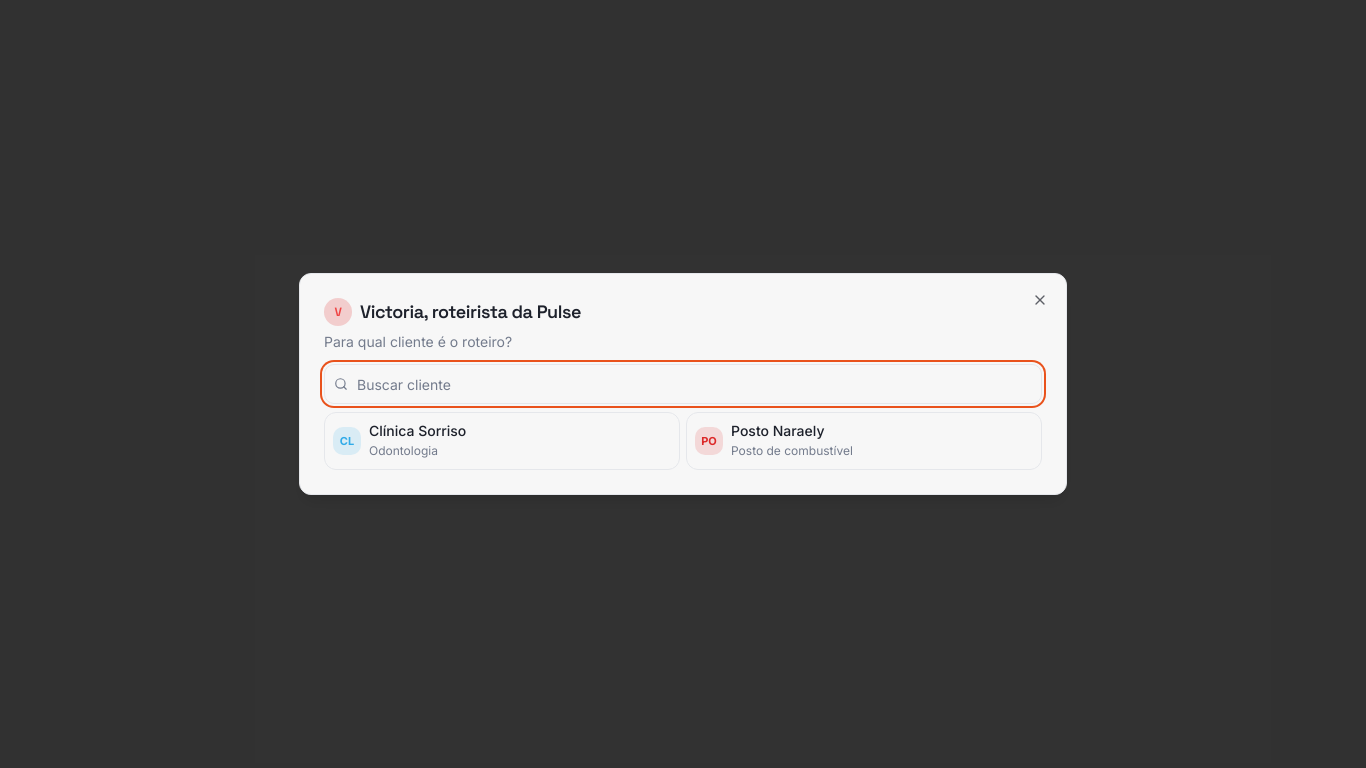
Test: Victoria: tela no Copy › abre com sugestões prontas e um toque já pede o roteiro
Click the button "CL Clínica Sorriso Odontologia": (418, 430) x1=324 y1=412 x2=680 y2=470
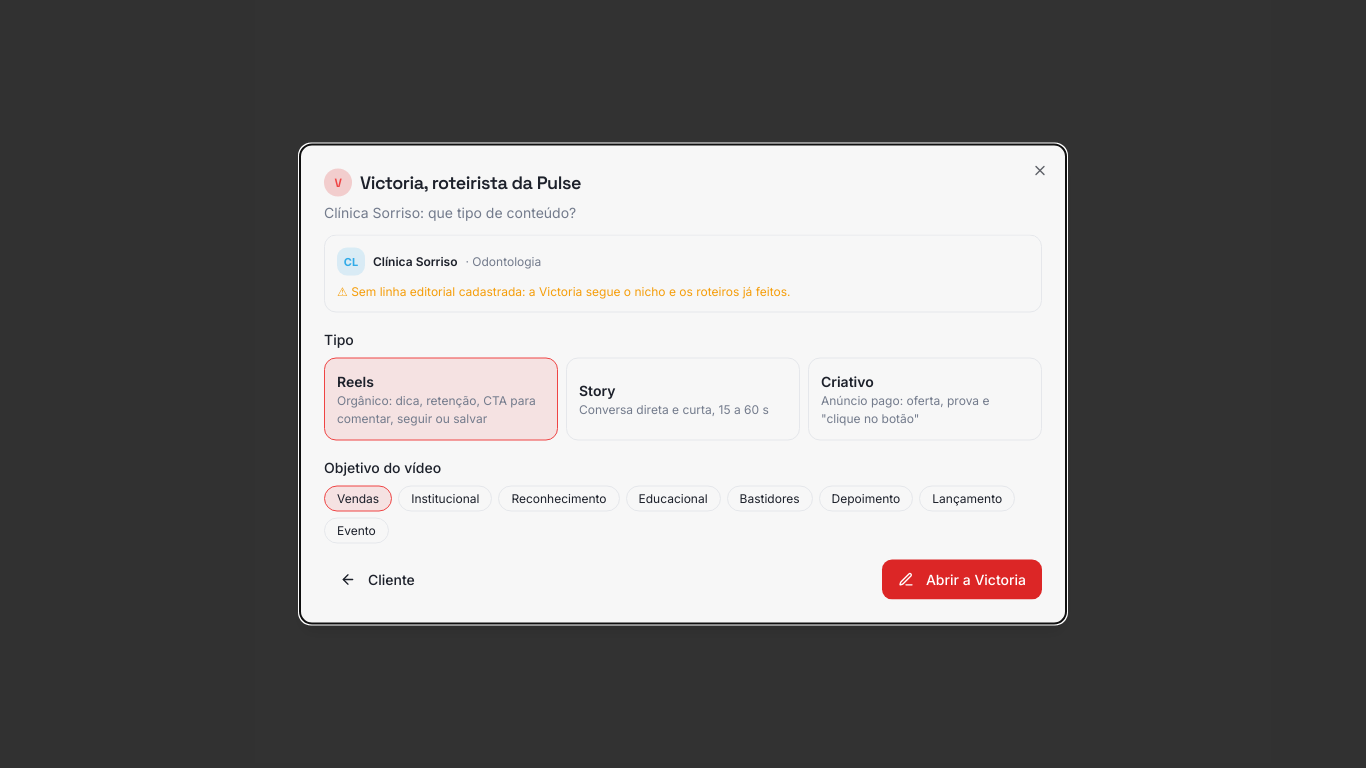
Click the button "Abrir a Victoria": (962, 580) x1=882 y1=560 x2=1042 y2=600
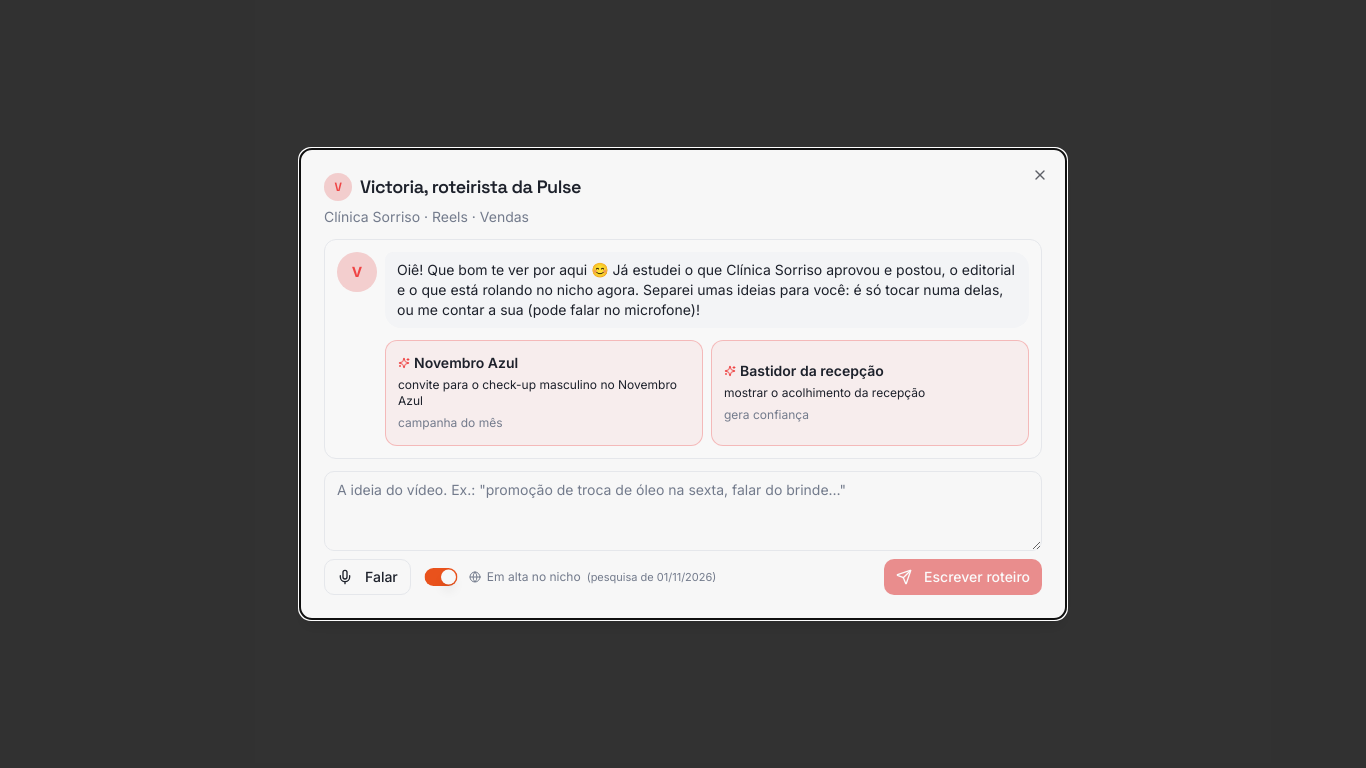
Expected: the text "Separei umas ideias para você" is shown, x1=397 y1=281 x2=1003 y2=318
Click the button "Novembro Azul": (544, 393) x1=385 y1=340 x2=703 y2=446
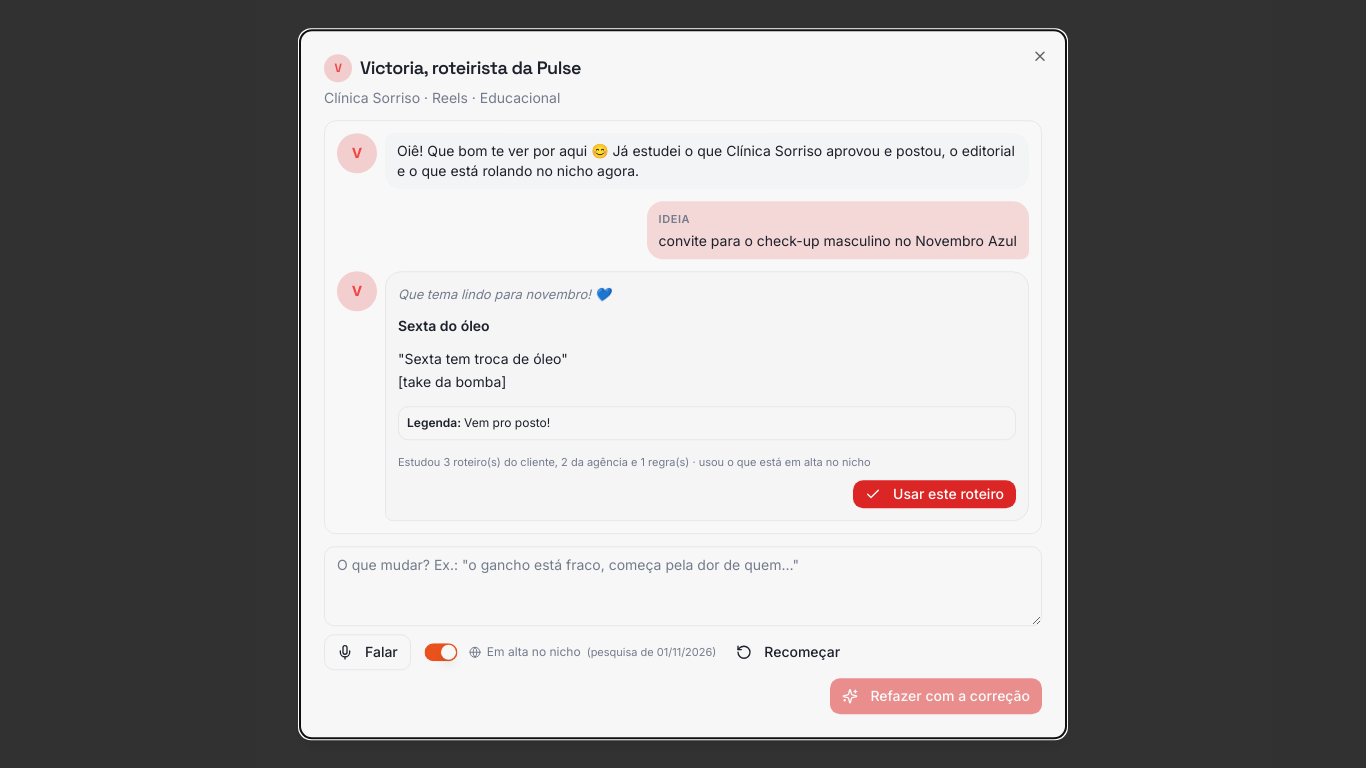
Expected: the text "Que tema lindo para novembro! 💙" is shown, x1=398 y1=286 x2=611 y2=302
